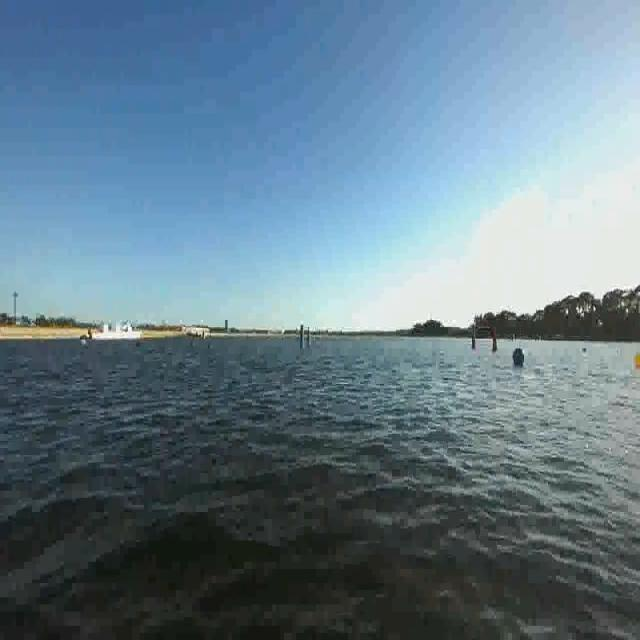blue-buoy: (510, 346, 524, 368)
green-column-buoy: (468, 322, 478, 352)
red-column-buoy: (489, 326, 499, 353)
yellow-buoy: (634, 351, 640, 369)
